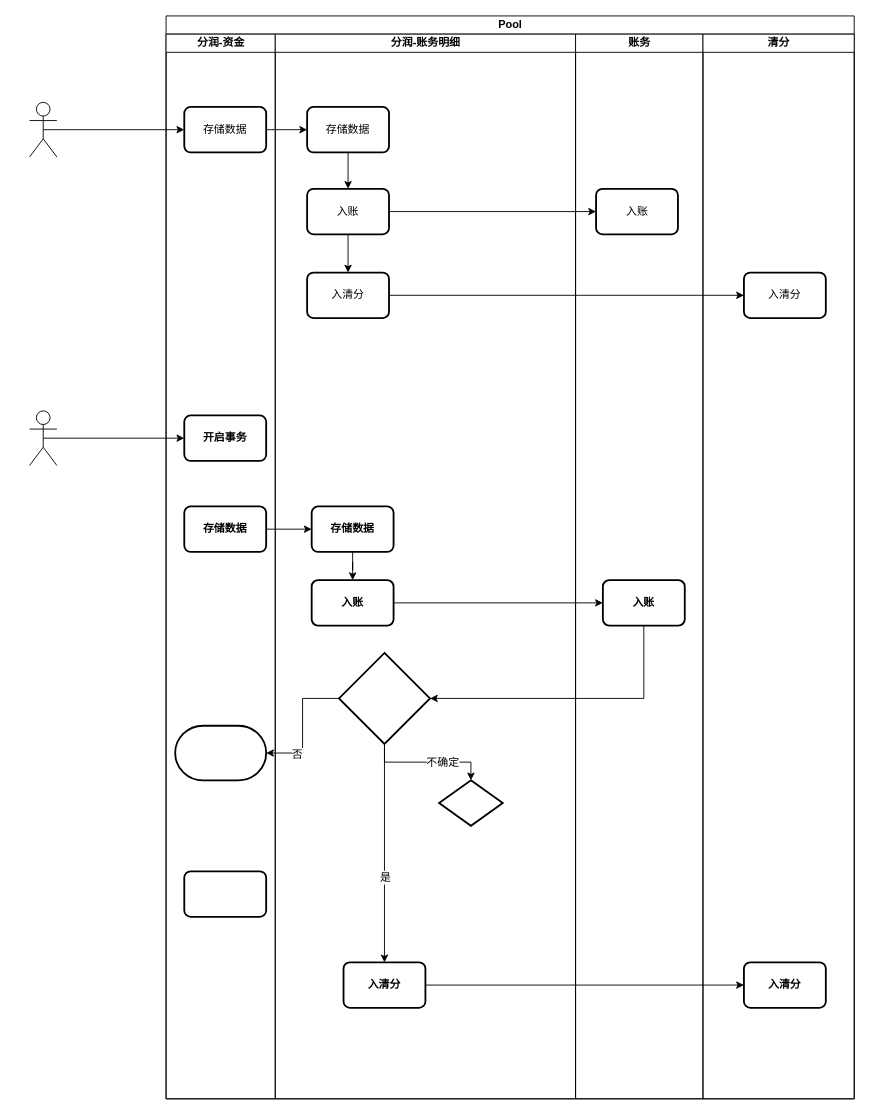
The diagram is 871 pixels wide and 1115 high, and some of its shapes have lost their labels. Here are the shapes that lost their labels. From the top down, the centre of each, then its label:
(x=43, y=129): 非实时入账
(x=43, y=437): 实时入账
(x=384, y=698): 入账操作成功
(x=220, y=752): 回滚事务
(x=470, y=802): 查询账务处理结果
(x=225, y=893): 提交事务
